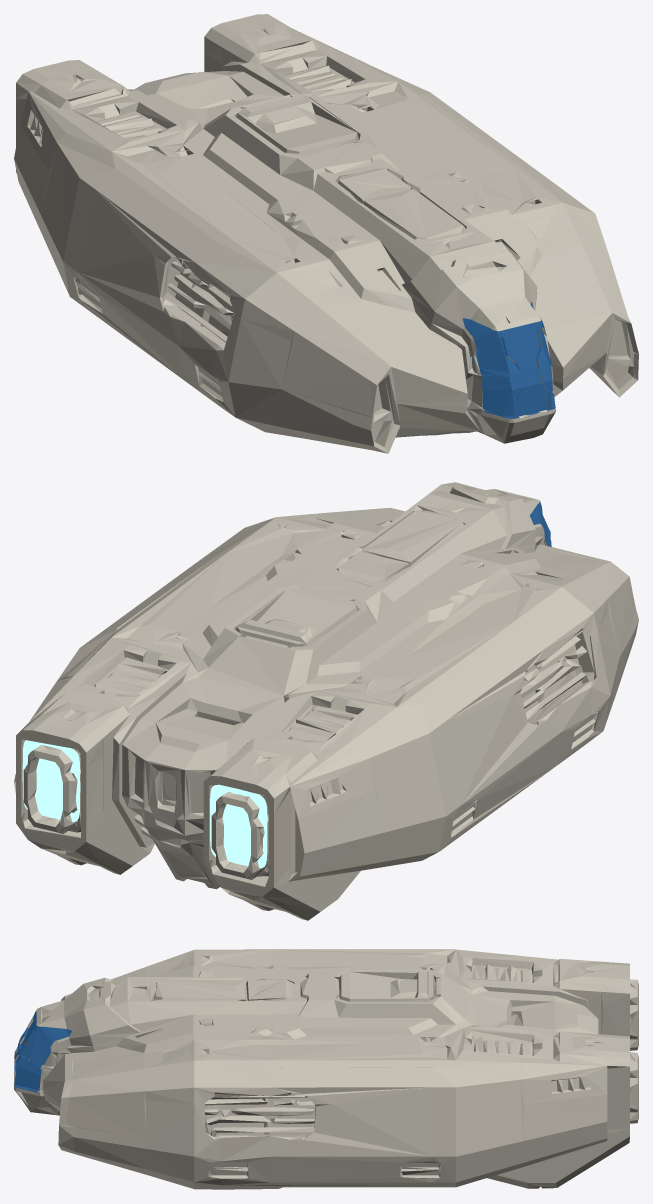
The model's file is type-6.glb.
3 views of the same model, one above another, from view 1: azimuth 30°, elevation 25°; view 2: azimuth 150°, elevation 25°; view 3: azimuth 270°, elevation 25° (orthographic). The views are drawn at different scales.
Visible parts, largest first — view 1: type-6; view 2: type-6; view 3: type-6.
Part boxes in pixels (<box>): type-6: <box>14,14,638,453</box>; type-6: <box>14,482,638,920</box>; type-6: <box>14,949,638,1189</box>.
Bounding box in the file's own units: 27.23 × 15.02 × 48.39.
